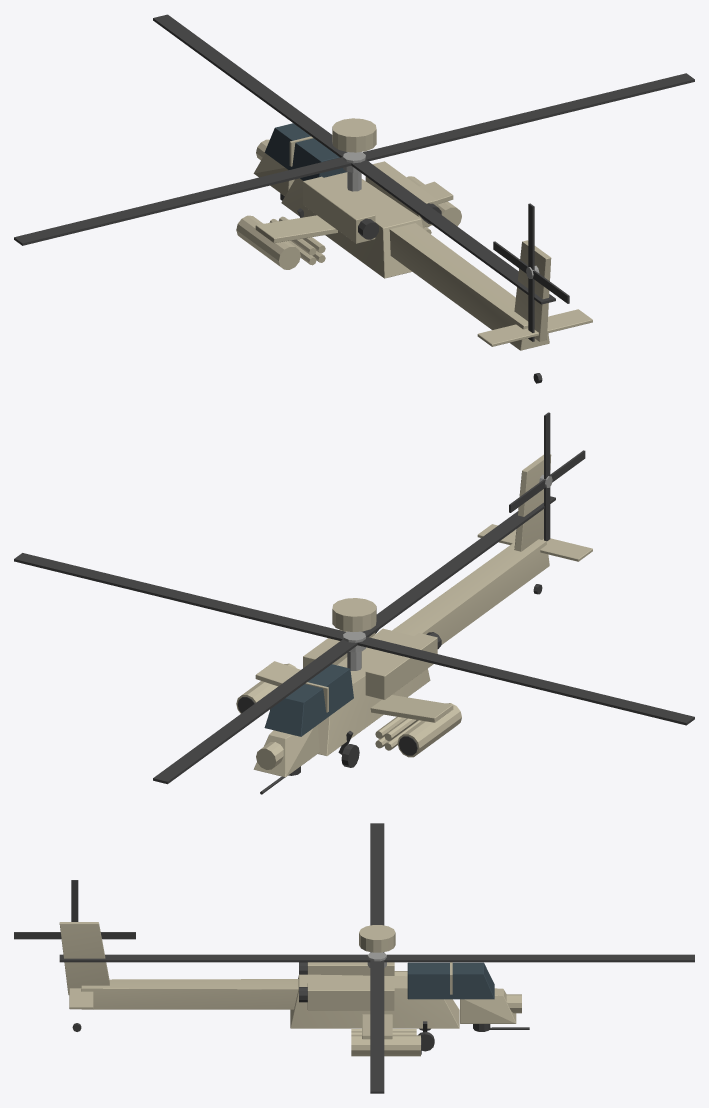
File: rus_heli_mi28.glb
3 views of the same model, one above another, from view 1: azimuth 30°, elevation 25°; view 2: azimuth 150°, elevation 25°; view 3: azimuth 270°, elevation 25° (orthographic). The views are drawn at different scales.
Visible parts, largest first — view 1: body, rotor, trotor; view 2: body, rotor, trotor; view 3: body, rotor, trotor.
Boxes of the visible parts, box(x1,y1,x2,y2) form: body: box(236, 118, 592, 383); rotor: box(14, 14, 694, 304); trotor: box(493, 203, 569, 341); body: box(236, 454, 592, 794); rotor: box(14, 496, 694, 784); trotor: box(509, 412, 585, 541); body: box(59, 922, 529, 1056); rotor: box(59, 823, 694, 1093); trotor: box(14, 880, 135, 939).
Bounding box in the file's own units: 14.6 × 3.97 × 15.65.
